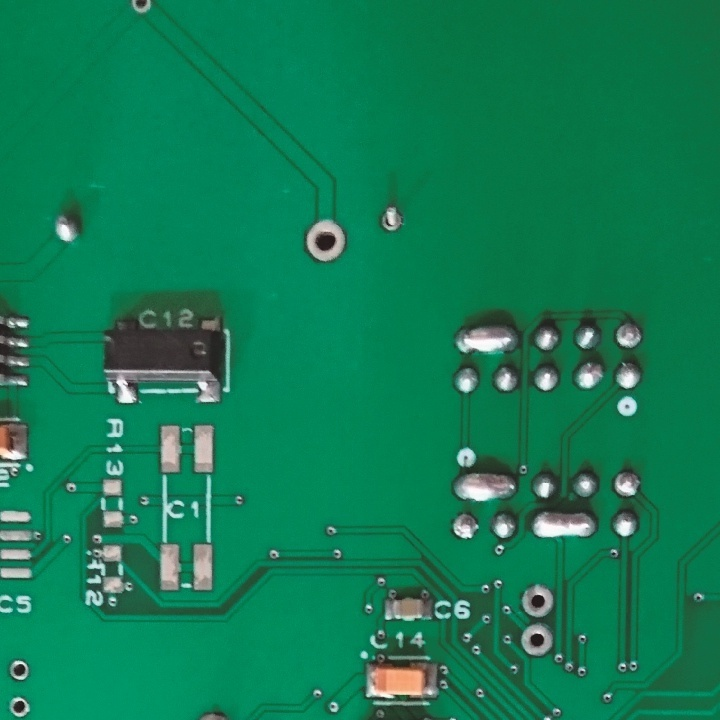F: (303, 219, 350, 266), (516, 618, 554, 662), (517, 583, 558, 620), (610, 319, 647, 352), (377, 203, 407, 238), (613, 469, 644, 501), (450, 512, 481, 538), (6, 657, 33, 683), (8, 693, 33, 720), (128, 1, 159, 17)
P: (450, 320, 518, 357), (530, 506, 596, 543), (449, 467, 519, 500)
